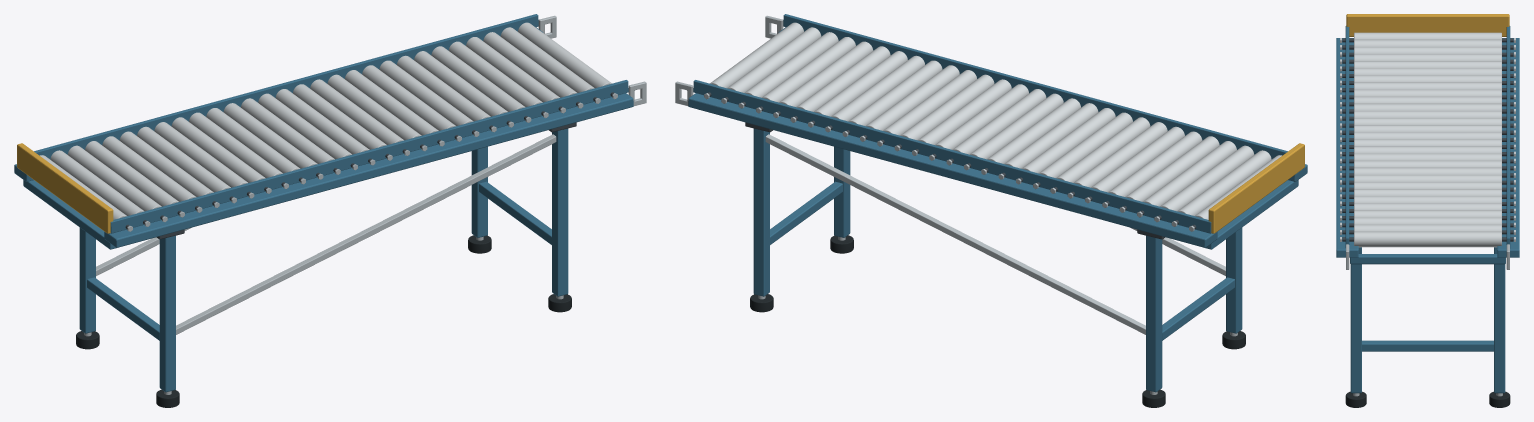
File: city-gravity-roller-conveyor.glb
3 renders of one model, left to right at view 1: azimuth 30°, elevation 25°; view 2: azimuth 150°, elevation 25°; view 3: azimuth 270°, elevation 25°, orthographic. The views are drawn at different scales.
Visible parts, largest first — view 1: Assembly | Bright roller and hardware metal, Assembly | Industrial muted blue finish, Assembly | Satin galvanized support metal, Assembly | Muted warm safety accent, Assembly | Dark wheel and foot rubber, Assembly | Dark steel fittings; view 2: Assembly | Bright roller and hardware metal, Assembly | Industrial muted blue finish, Assembly | Satin galvanized support metal, Assembly | Muted warm safety accent, Assembly | Dark wheel and foot rubber, Assembly | Dark steel fittings; view 3: Assembly | Bright roller and hardware metal, Assembly | Industrial muted blue finish, Assembly | Muted warm safety accent, Assembly | Dark steel fittings, Assembly | Satin galvanized support metal, Assembly | Dark wheel and foot rubber.
Part boxes in pixels (<box>): Assembly | Bright roller and hardware metal: <box>40,22,611,219</box>; Assembly | Industrial muted blue finish: <box>14,14,633,392</box>; Assembly | Satin galvanized support metal: <box>84,15,646,394</box>; Assembly | Muted warm safety accent: <box>17,143,113,233</box>; Assembly | Dark wheel and foot rubber: <box>76,235,571,407</box>; Assembly | Dark steel fittings: <box>125,92,613,239</box>; Assembly | Bright roller and hardware metal: <box>710,22,1281,219</box>; Assembly | Industrial muted blue finish: <box>688,14,1307,392</box>; Assembly | Satin galvanized support metal: <box>675,15,1237,394</box>; Assembly | Muted warm safety accent: <box>1208,143,1304,233</box>; Assembly | Dark wheel and foot rubber: <box>750,235,1245,407</box>; Assembly | Dark steel fittings: <box>708,92,1196,239</box>; Assembly | Bright roller and hardware metal: <box>1354,32,1501,247</box>; Assembly | Industrial muted blue finish: <box>1336,26,1519,393</box>; Assembly | Muted warm safety accent: <box>1346,14,1509,36</box>; Assembly | Dark steel fittings: <box>1342,38,1513,241</box>; Assembly | Satin galvanized support metal: <box>1340,38,1515,396</box>; Assembly | Dark wheel and foot rubber: <box>1345,391,1510,407</box>.
Bounding box in the file's own units: 2.17 × 0.8286 × 0.714.
